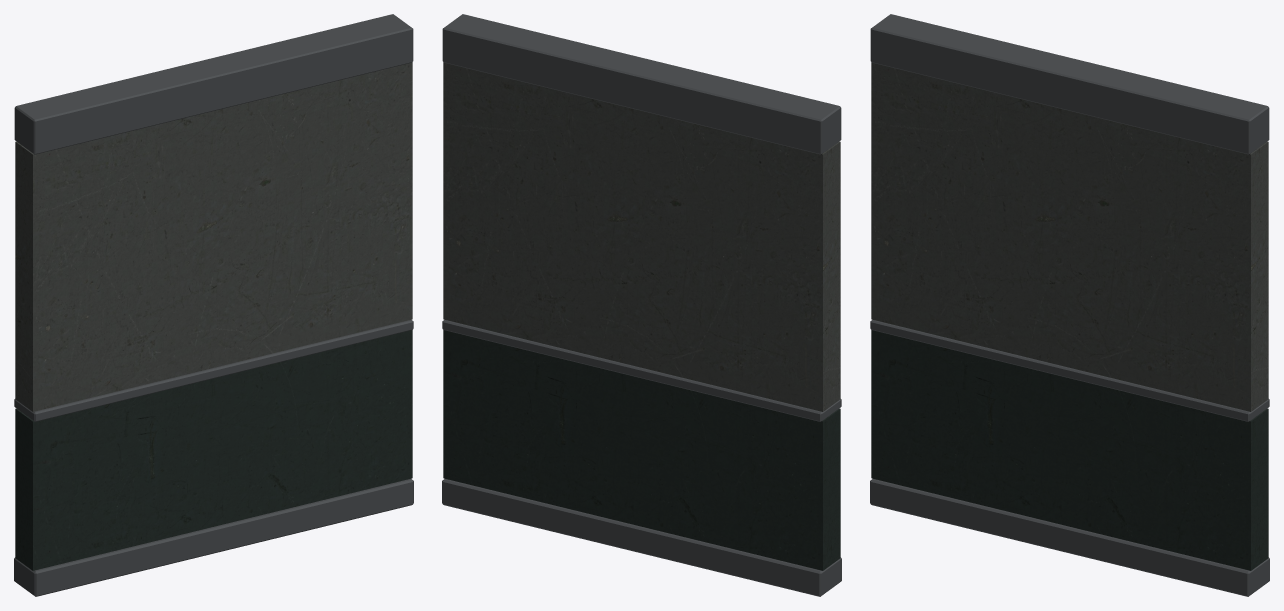
The model's file is wall.glb.
The picture shows the model from 3 angles, left to right: view 1: azimuth 30°, elevation 25°; view 2: azimuth 150°, elevation 25°; view 3: azimuth 330°, elevation 25°; orthographic projection.
Visible parts, largest first — view 1: wall; view 2: wall; view 3: wall.
Part boxes in pixels (x1,y1,x2,y2): wall: (14, 14, 413, 596); wall: (442, 14, 841, 596); wall: (870, 14, 1269, 596).
Bounding box in the file's own units: 2.5 × 3 × 0.25.
Materials: 3 (2 with a texture image).
